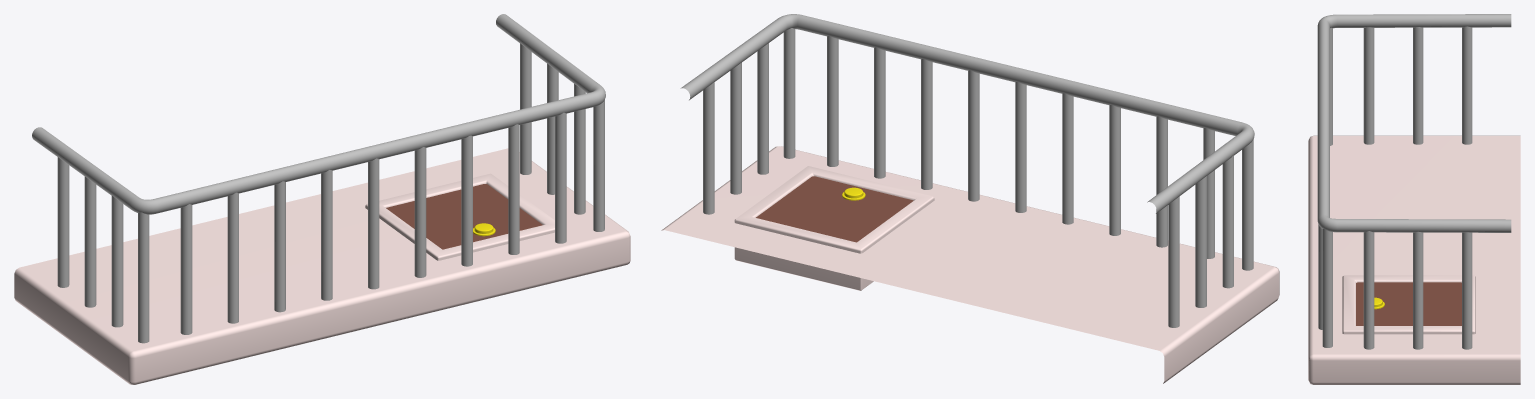
File: City_13_Balcony_3.glb
3 renders of one model, left to right at view 1: azimuth 30°, elevation 25°; view 2: azimuth 150°, elevation 25°; view 3: azimuth 270°, elevation 25°, orthographic. The views are drawn at different scales.
Parts seen in each view (by area): view 1: City_13_Balcony_3; view 2: City_13_Balcony_3; view 3: City_13_Balcony_3.
Part boxes in pixels (x1,y1,x2,y2): City_13_Balcony_3: (14, 14, 630, 384); City_13_Balcony_3: (661, 14, 1279, 383); City_13_Balcony_3: (1308, 14, 1520, 384).
Bounding box in the file's own units: 3.22 × 1.11 × 1.3.
1 material, 1 textured.
